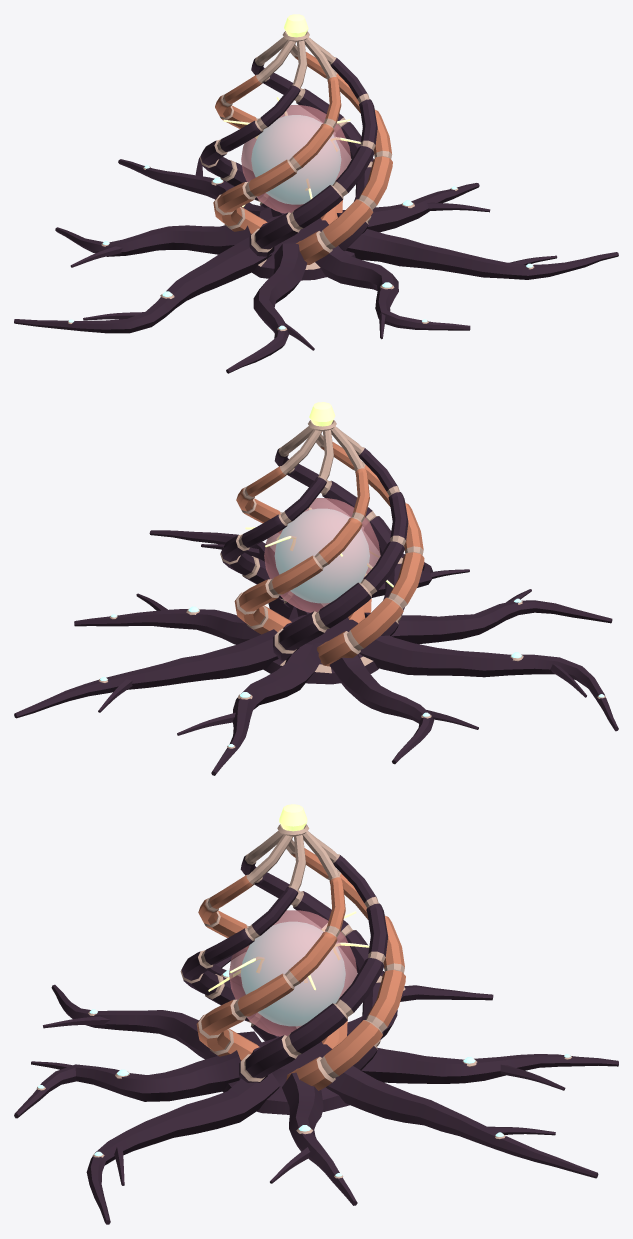
File: deco_growth_node.fbx
3 views of the same model, one above another, from view 1: azimuth 30°, elevation 25°; view 2: azimuth 150°, elevation 25°; view 3: azimuth 270°, elevation 25° (orthographic). The views are drawn at different scales.
Parts seen in each view (by area): view 1: GrowthNode_Roots, GrowthNode_Knot, GrowthNode_Core; view 2: GrowthNode_Roots, GrowthNode_Knot, GrowthNode_Core; view 3: GrowthNode_Roots, GrowthNode_Knot, GrowthNode_Core.
Boxes of the visible parts, bbox=[...] form: GrowthNode_Roots: bbox=[14, 157, 618, 373]; GrowthNode_Knot: bbox=[199, 14, 392, 264]; GrowthNode_Core: bbox=[223, 97, 360, 213]; GrowthNode_Roots: bbox=[14, 530, 618, 775]; GrowthNode_Knot: bbox=[220, 402, 424, 666]; GrowthNode_Core: bbox=[245, 498, 393, 612]; GrowthNode_Roots: bbox=[14, 949, 618, 1224]; GrowthNode_Knot: bbox=[180, 804, 405, 1090]; GrowthNode_Core: bbox=[208, 910, 369, 1036].
Bounding box in the file's own units: 482 × 214 × 414.
